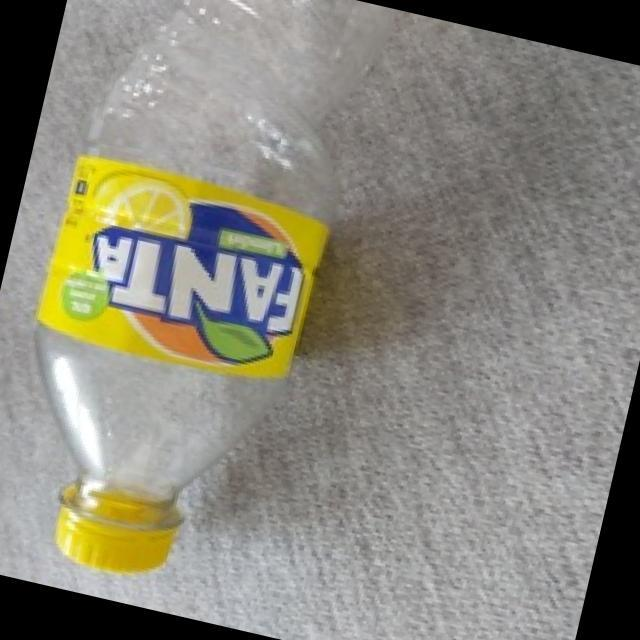good: (0, 0, 414, 620)
